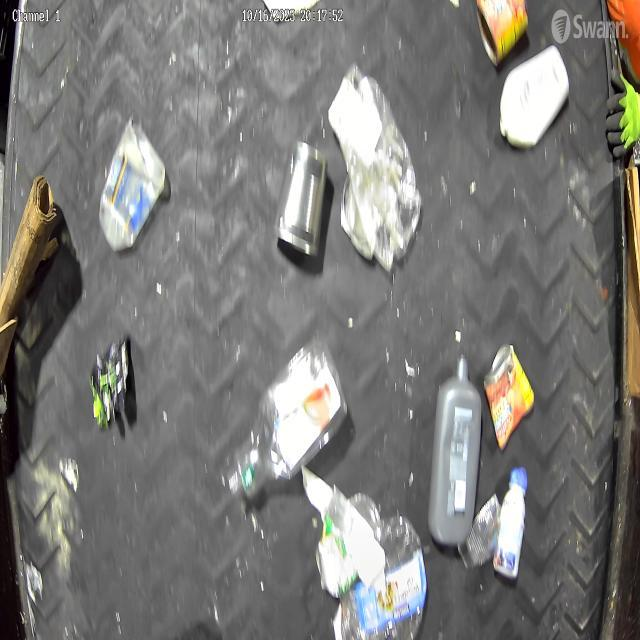can: (278, 132, 326, 264), (481, 341, 537, 444), (464, 0, 534, 63), (458, 495, 508, 566)
